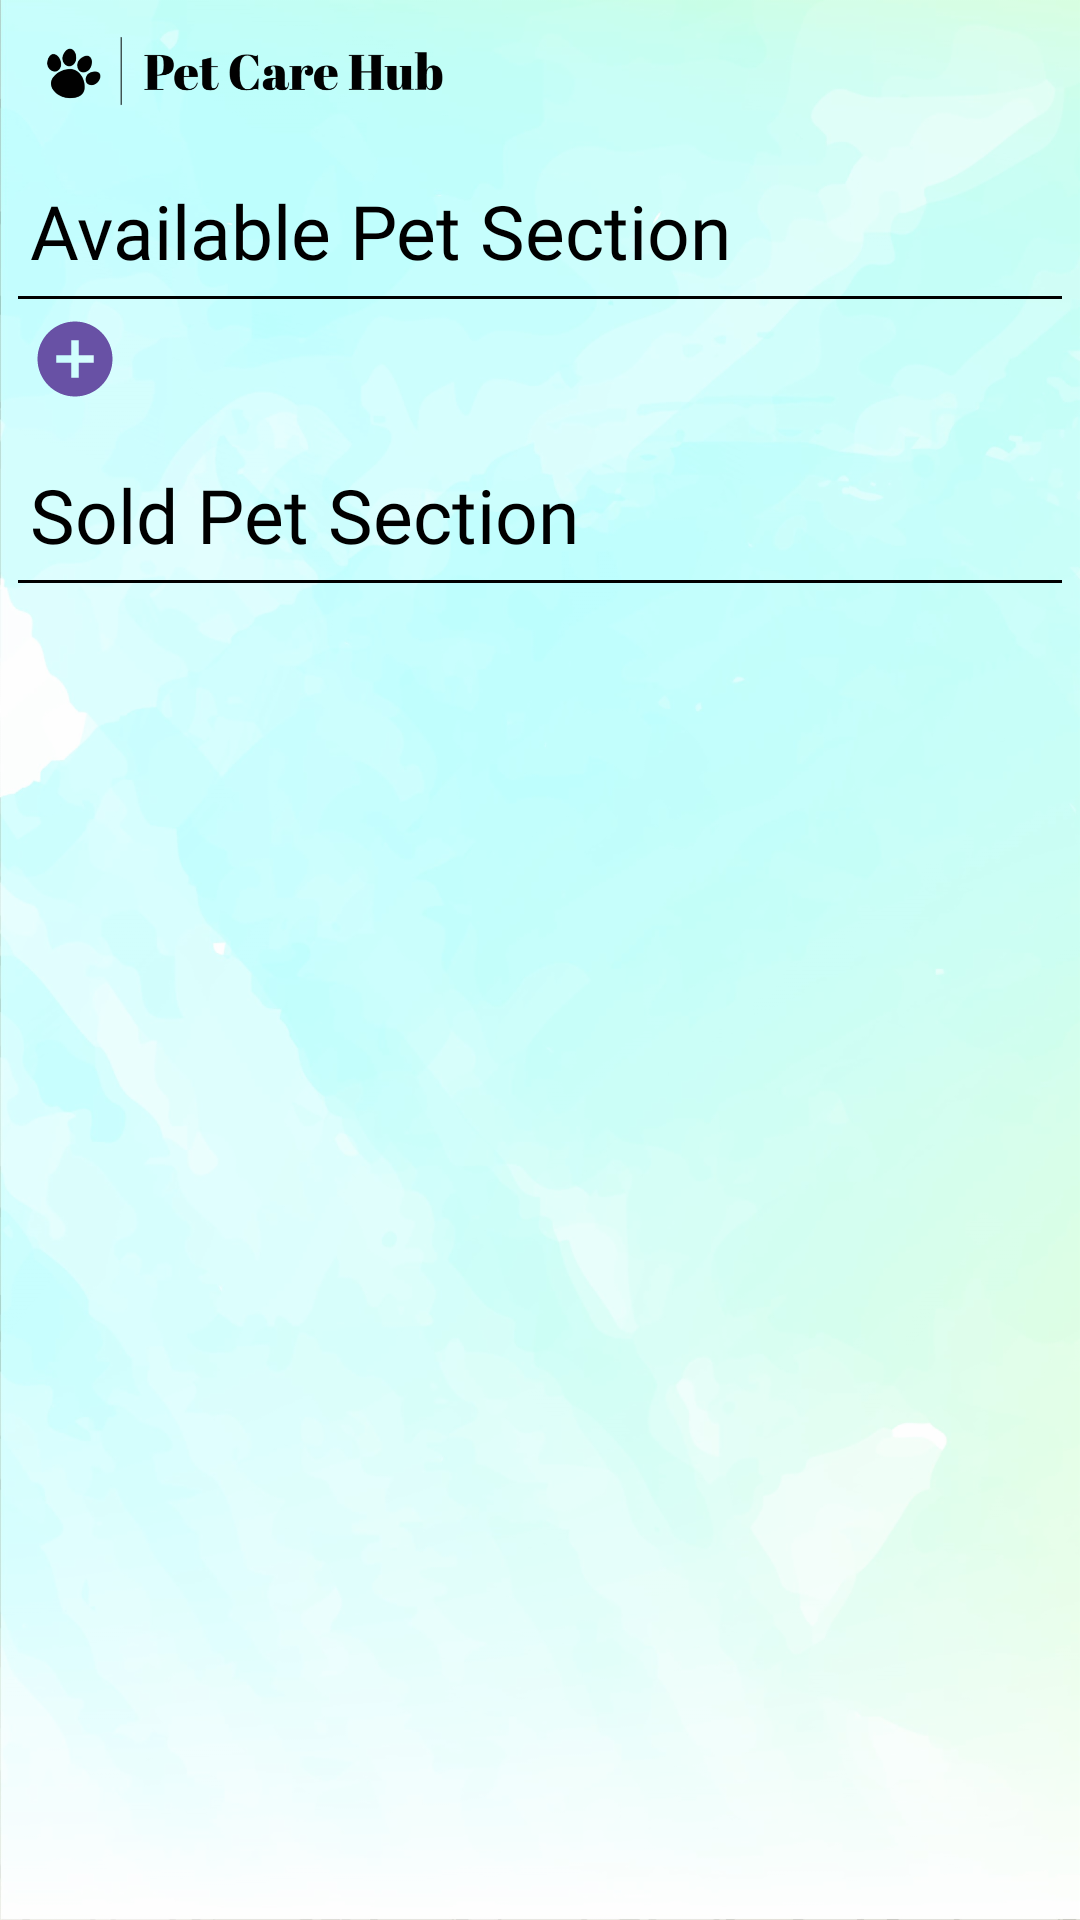

Screen size 1080*1920. Icon name, then its center in pixels as (x=x, y=y):
add circle: (x=75, y=359)
